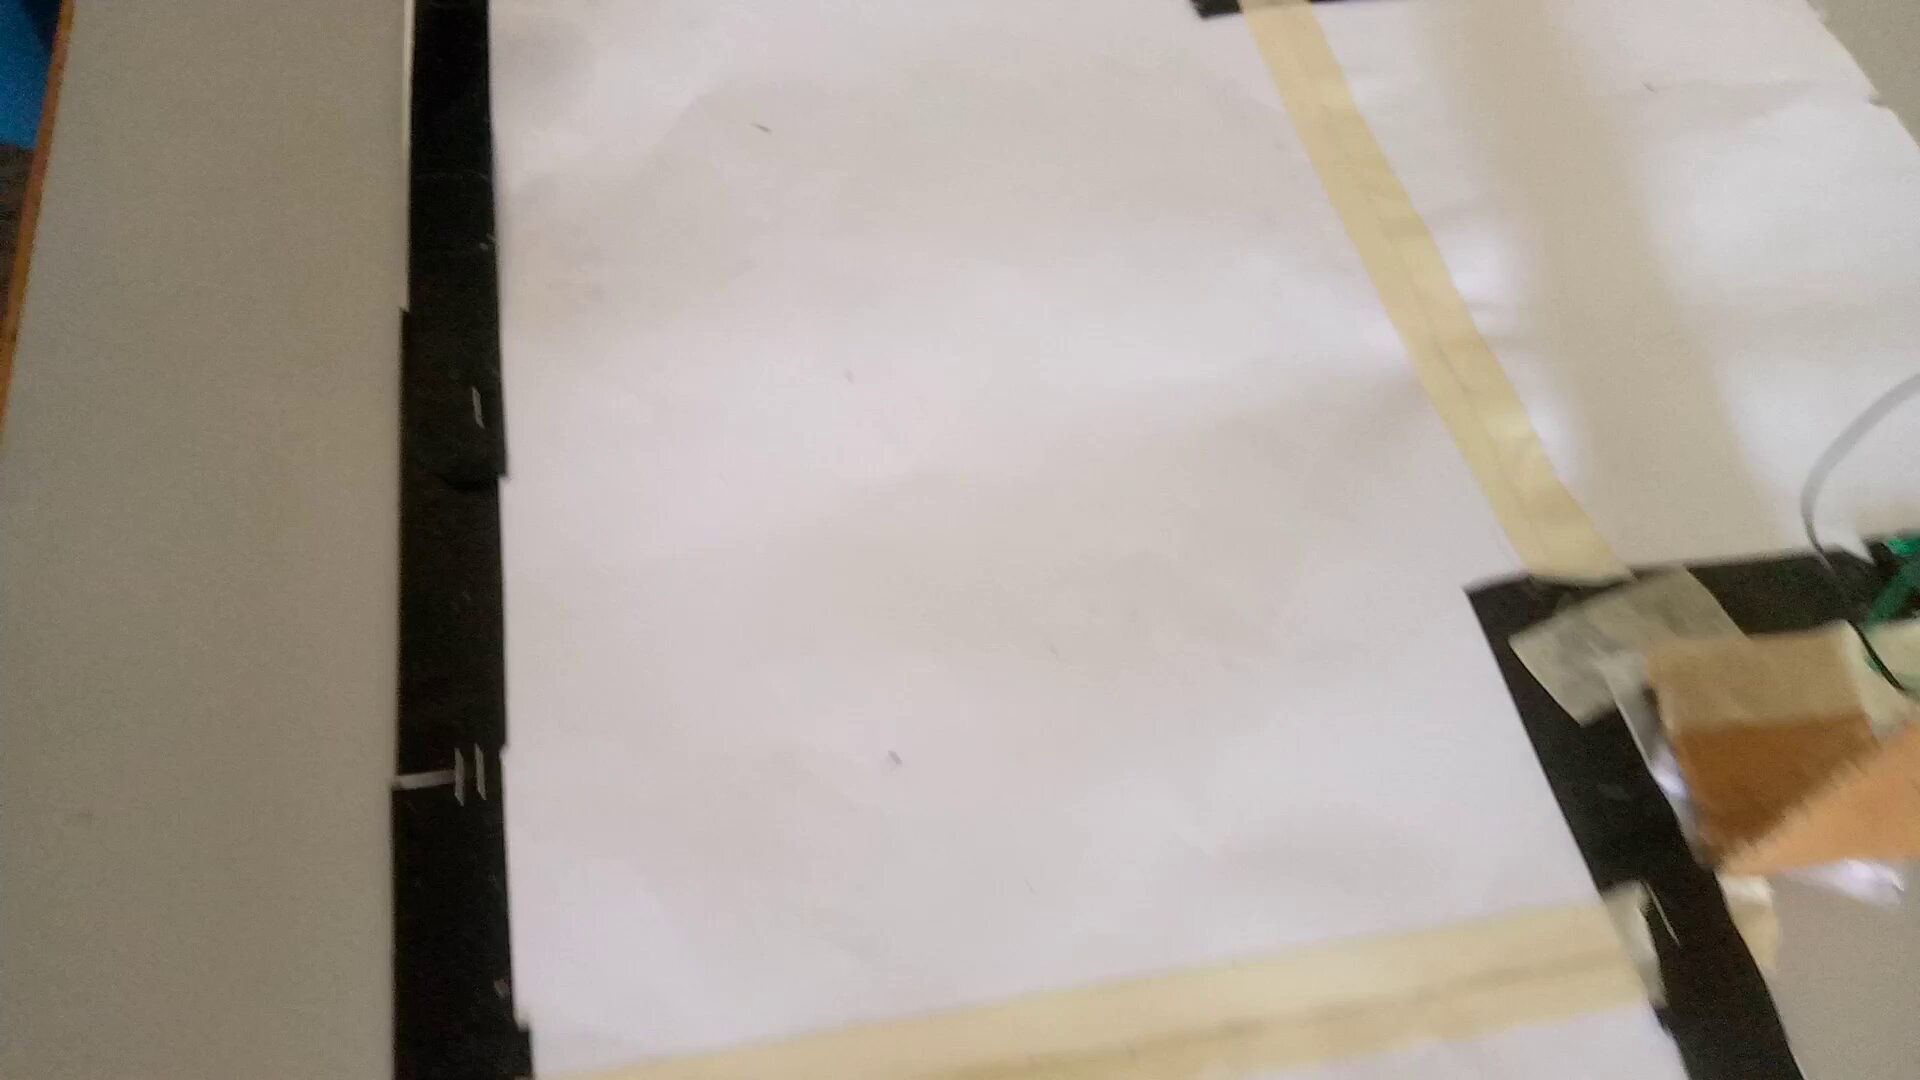right: (357, 1, 1669, 785)
